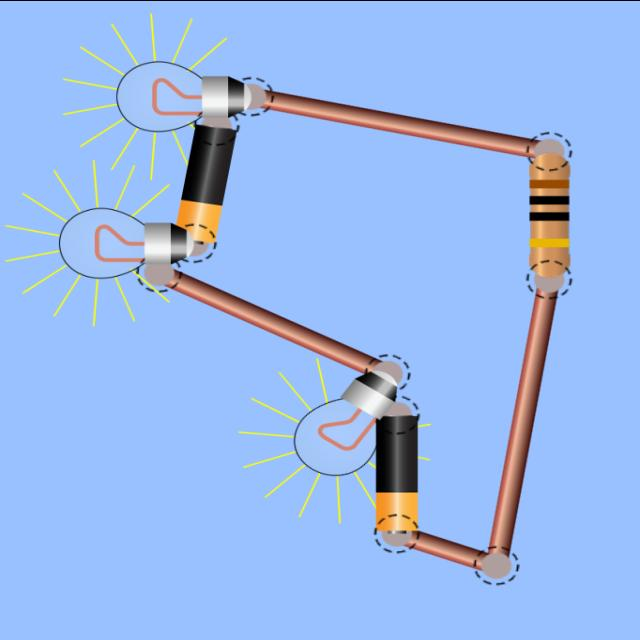Battery: (177, 124, 236, 240), (376, 415, 417, 531)
Light Bulb: (293, 370, 396, 475), (58, 206, 193, 278), (117, 60, 250, 131)
Resistor: (530, 151, 570, 278)
Wire: (166, 269, 380, 371), (489, 288, 557, 555), (263, 91, 536, 156), (404, 530, 487, 569)
